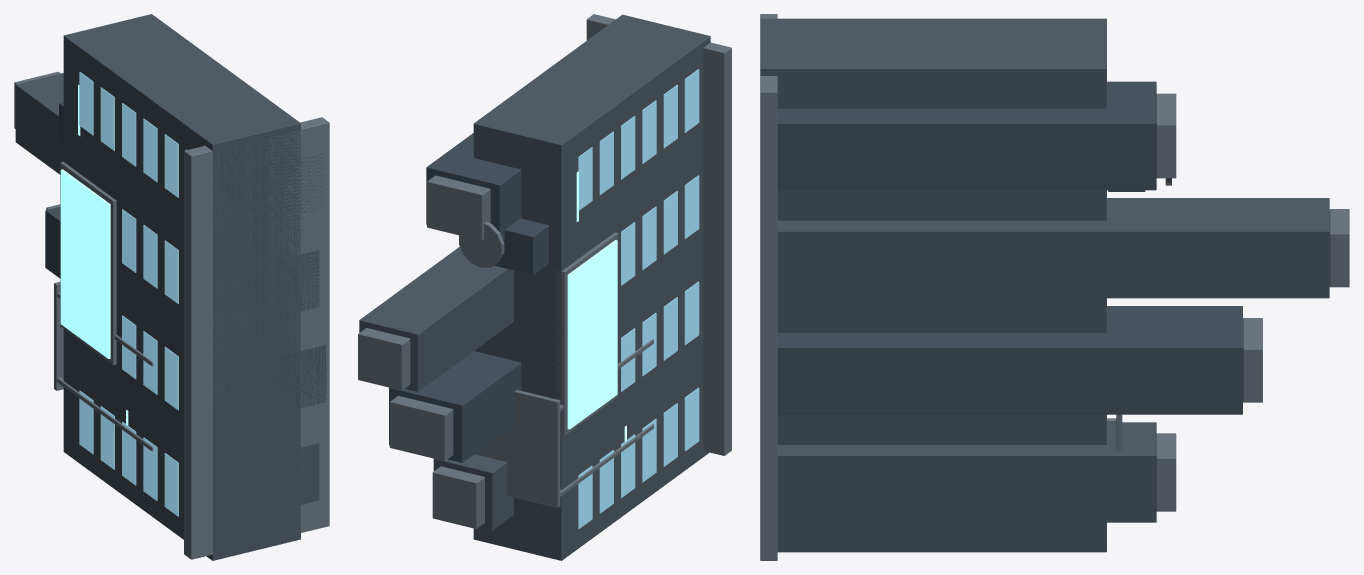
Rendered from far_facade_shell_rift_r.glb.
3 renders of one model, left to right at view 1: azimuth 30°, elevation 25°; view 2: azimuth 150°, elevation 25°; view 3: azimuth 270°, elevation 25°, orthographic. The views are drawn at different scales.
Parts seen in each view (by area): view 1: FlightKit_FarFacadeMass_rift_R; view 2: FlightKit_FarFacadeMass_rift_R; view 3: FlightKit_FarFacadeMass_rift_R.
Part boxes in pixels (x1,y1,x2,y2): FlightKit_FarFacadeMass_rift_R: (14, 14, 329, 560); FlightKit_FarFacadeMass_rift_R: (358, 14, 731, 560); FlightKit_FarFacadeMass_rift_R: (760, 14, 1349, 560).
Bounding box in the file's own units: 7.5 × 21.56 × 23.8.
